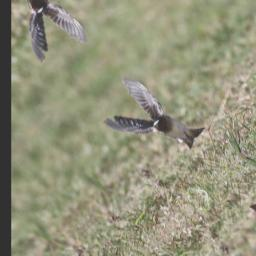Swallow: (90, 62, 209, 178)
